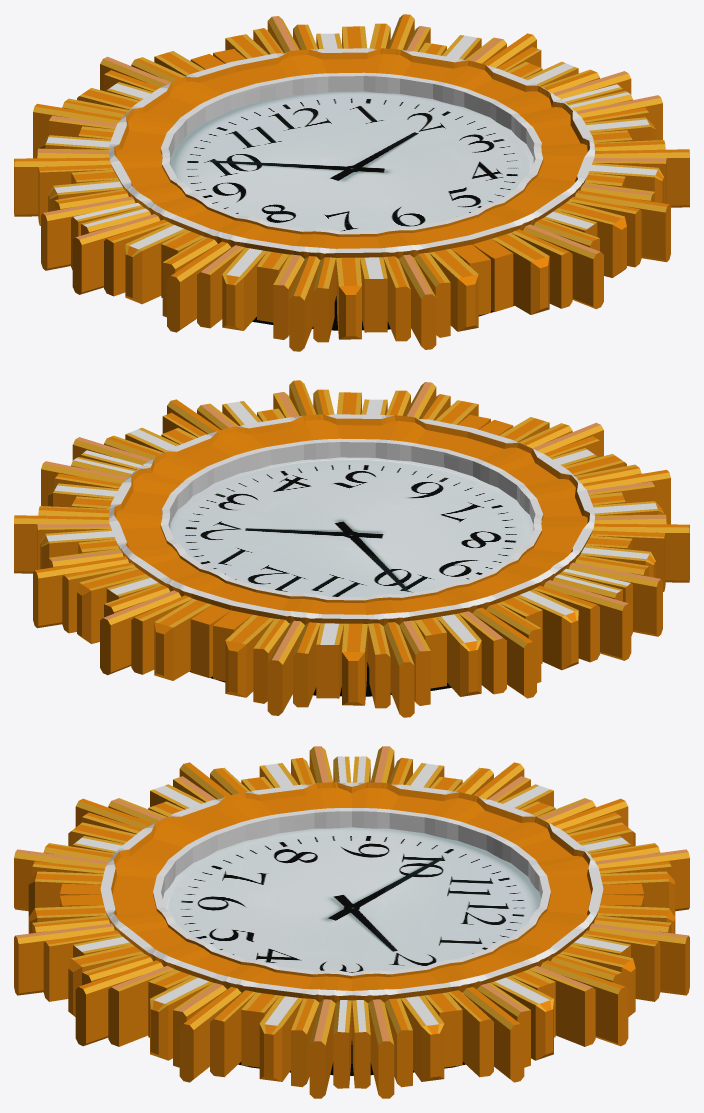
File: Clock.glb
The picture shows the model from 3 angles, top to bottom: view 1: azimuth 30°, elevation 25°; view 2: azimuth 150°, elevation 25°; view 3: azimuth 270°, elevation 25°; orthographic projection. The views are drawn at different scales.
Visible parts, largest first — view 1: Cylinder.002, Circle.002; view 2: Cylinder.002, Circle.002; view 3: Cylinder.002, Circle.002.
Part boxes in pixels (bbox=[...]): Cylinder.002: bbox=[14, 14, 689, 351]; Circle.002: bbox=[170, 91, 533, 231]; Cylinder.002: bbox=[14, 380, 689, 717]; Circle.002: bbox=[170, 457, 533, 597]; Cylinder.002: bbox=[14, 746, 689, 1098]; Circle.002: bbox=[163, 827, 540, 972].
Bounding box in the file's own units: 2.86 × 0.3522 × 2.76.
7 materials, 1 textured.
